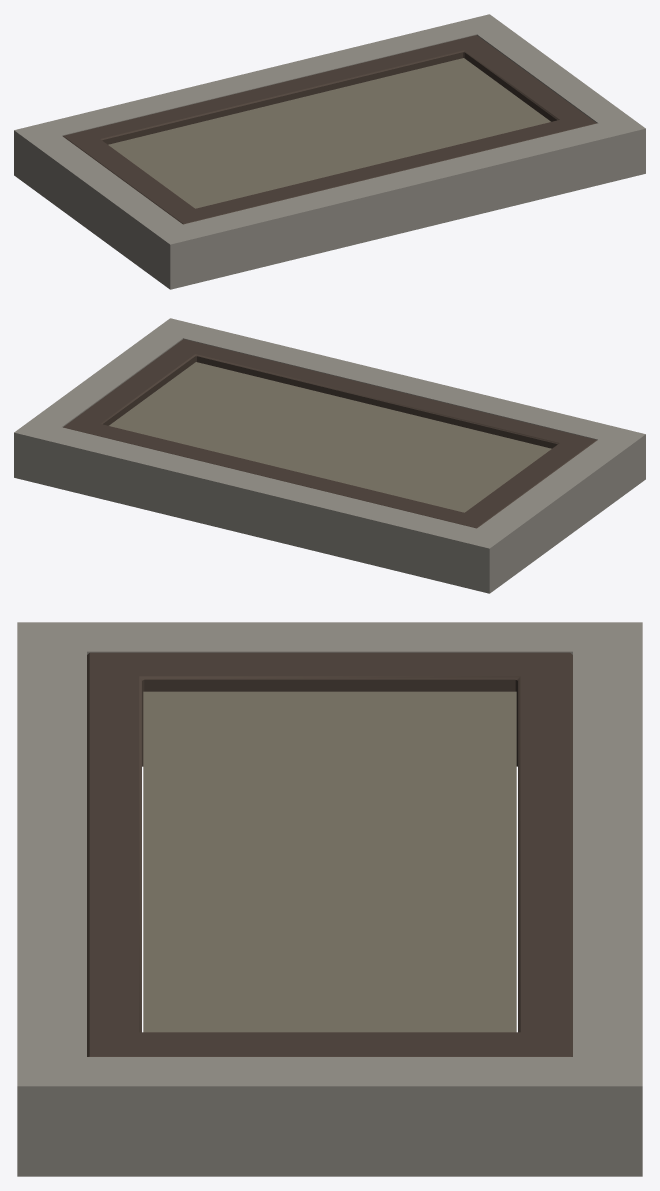
The model's file is service_telecom.glb.
3 renders of one model, top to bottom at view 1: azimuth 30°, elevation 25°; view 2: azimuth 150°, elevation 25°; view 3: azimuth 270°, elevation 25°, orthographic. The views are drawn at different scales.
Visible parts, largest first — view 1: mortar, infill, frame; view 2: mortar, infill, frame; view 3: mortar, infill, frame.
Part boxes in pixels (x1=…): mortar: x1=14, y1=14, x2=645, y2=289; infill: x1=108, y1=58, x2=550, y2=208; frame: x1=63, y1=35, x2=596, y2=224; mortar: x1=14, y1=318, x2=645, y2=593; infill: x1=109, y1=362, x2=551, y2=512; frame: x1=63, y1=339, x2=596, y2=528; mortar: x1=17, y1=622, x2=642, y2=1176; infill: x1=143, y1=691, x2=516, y2=1032; frame: x1=87, y1=652, x2=572, y2=1056.
Bounding box in the file's own units: 0.441 × 0.04 × 0.251.
